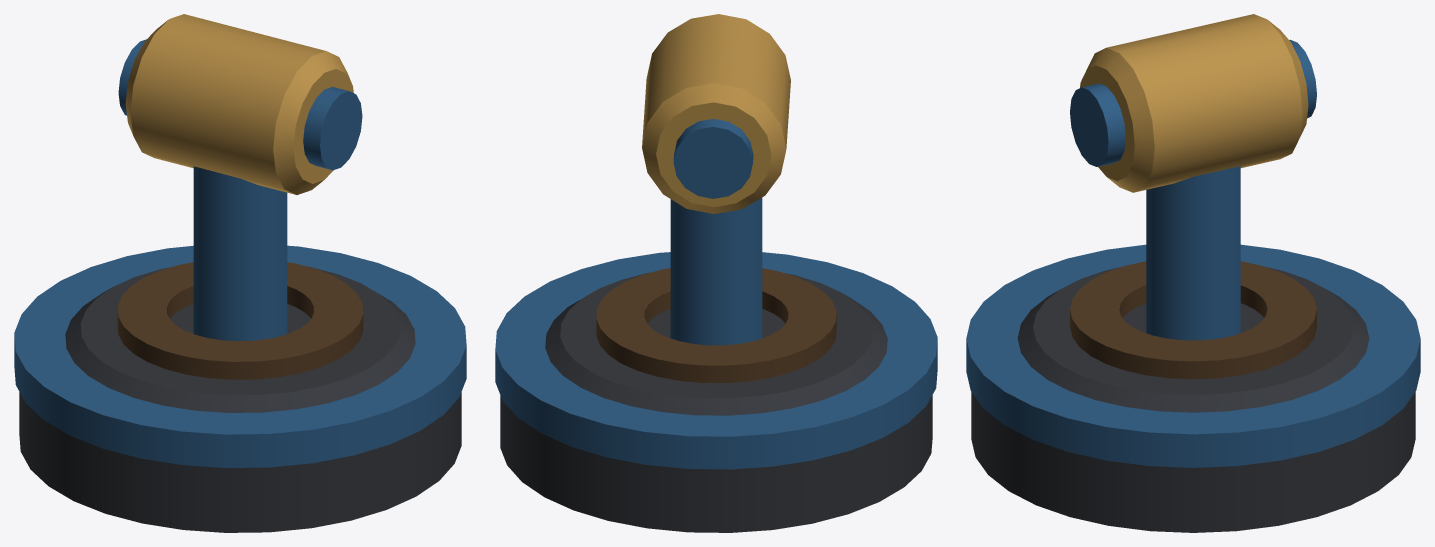
The model's file is rm2_leg_fr_foot.obj.
3 views of the same model, side by side, from view 1: azimuth 30°, elevation 25°; view 2: azimuth 150°, elevation 25°; view 3: azimuth 270°, elevation 25° (orthographic). The views are drawn at different scales.
Visible parts, largest first — view 1: rm2_leg_fr_foot; view 2: rm2_leg_fr_foot; view 3: rm2_leg_fr_foot.
Part boxes in pixels (<box>): rm2_leg_fr_foot: <box>14,14,466,532</box>; rm2_leg_fr_foot: <box>495,14,937,532</box>; rm2_leg_fr_foot: <box>966,14,1420,532</box>.
Bounding box in the file's own units: 0.184 × 0.18 × 0.184.
